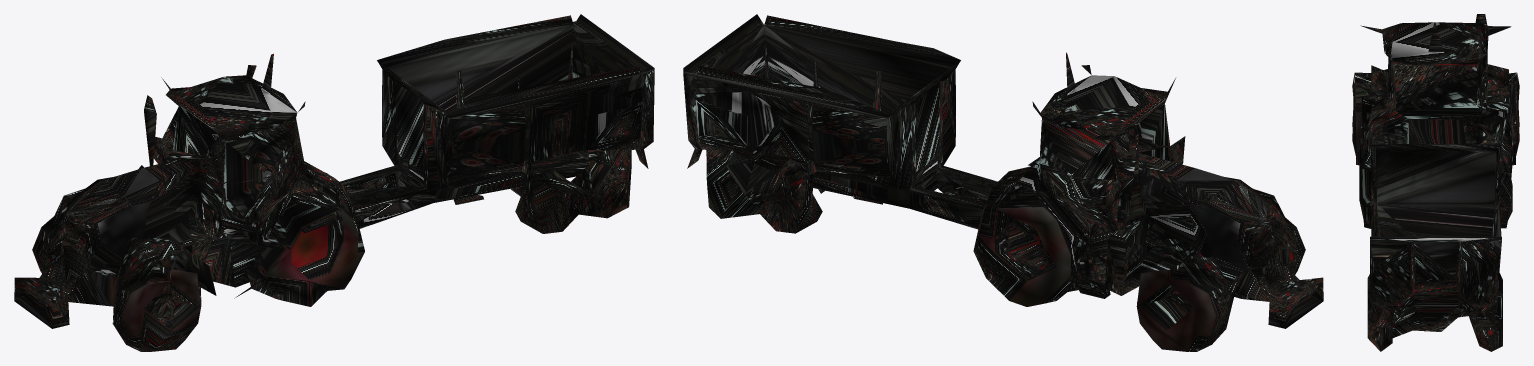
The model's file is fendt-tractor.lod.glb.
3 views of the same model, side by side, from view 1: azimuth 30°, elevation 25°; view 2: azimuth 150°, elevation 25°; view 3: azimuth 270°, elevation 25° (orthographic). The views are drawn at different scales.
Parts seen in each view (by area): view 1: tripo_node_d26a0064-5774-4827-8335-6a8079d9aa4d; view 2: tripo_node_d26a0064-5774-4827-8335-6a8079d9aa4d; view 3: tripo_node_d26a0064-5774-4827-8335-6a8079d9aa4d.
Boxes of the visible parts, x1,y1,x2,y2 form: tripo_node_d26a0064-5774-4827-8335-6a8079d9aa4d: (14,14,654,351); tripo_node_d26a0064-5774-4827-8335-6a8079d9aa4d: (683,14,1323,351); tripo_node_d26a0064-5774-4827-8335-6a8079d9aa4d: (1352,14,1519,351).
Size of the model in its own units: 4.2 by 1.59 by 1.17.
1 material, 1 textured.
